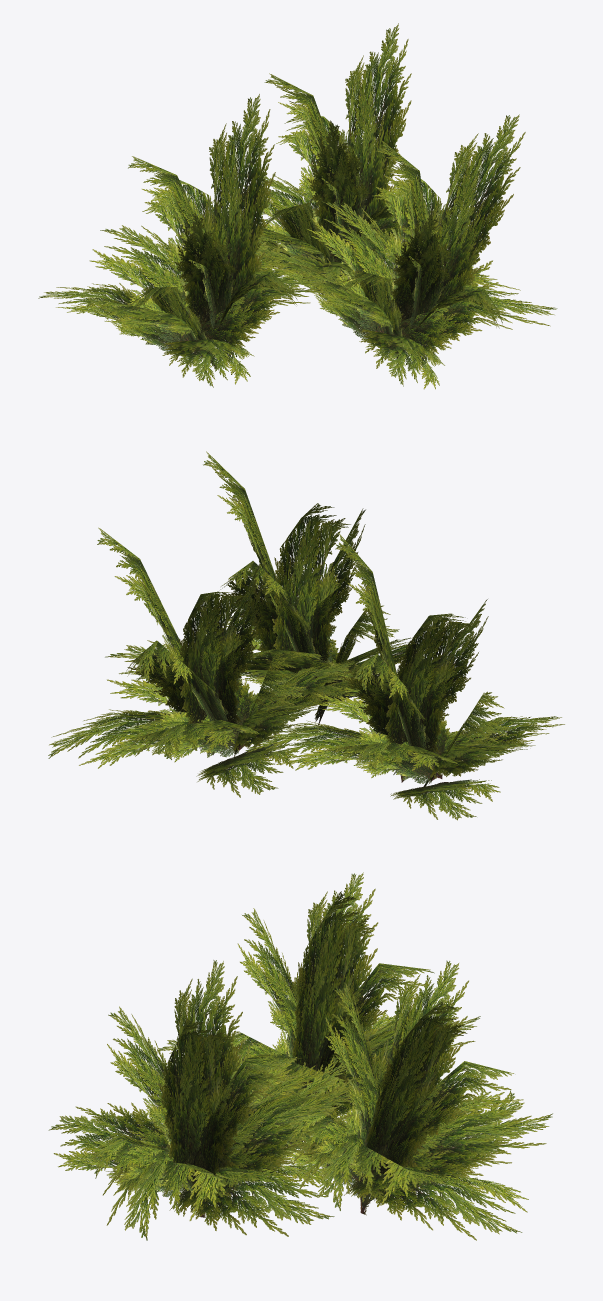
Rendered from SM_bush_c.fbx.
3 views of the same model, one above another, from view 1: azimuth 30°, elevation 25°; view 2: azimuth 150°, elevation 25°; view 3: azimuth 270°, elevation 25° (orthographic). The views are drawn at different scales.
Parts seen in each view (by area): view 1: pPlane21; view 2: pPlane21; view 3: pPlane21.
Boxes of the visible parts, <box> form: pPlane21: <box>38,23,557,389</box>; pPlane21: <box>48,451,564,820</box>; pPlane21: <box>48,872,552,1240</box>.
Size of the model in its own units: 6.49 by 3.58 by 5.99.
1 material, 1 textured.
